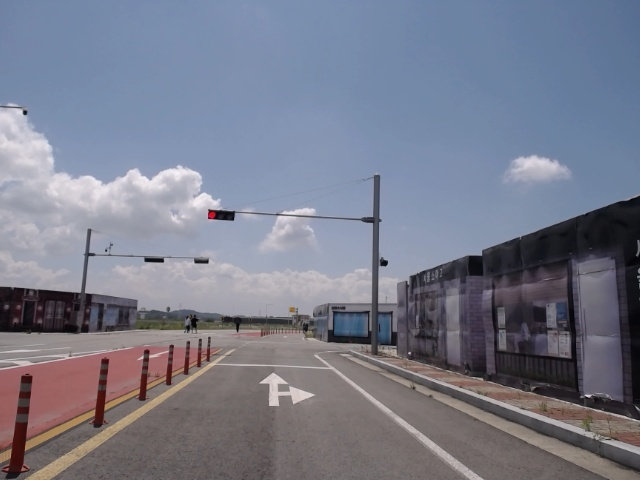red_3: (208, 208, 236, 224)
